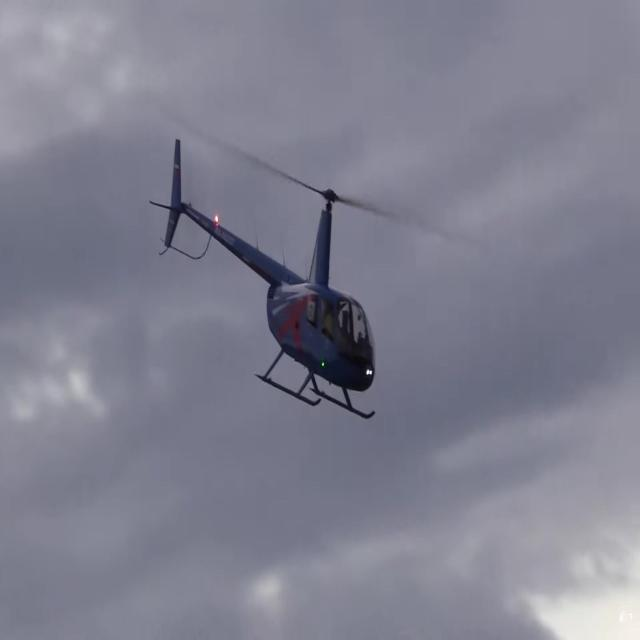CIV_HELO: (148, 136, 378, 422)
